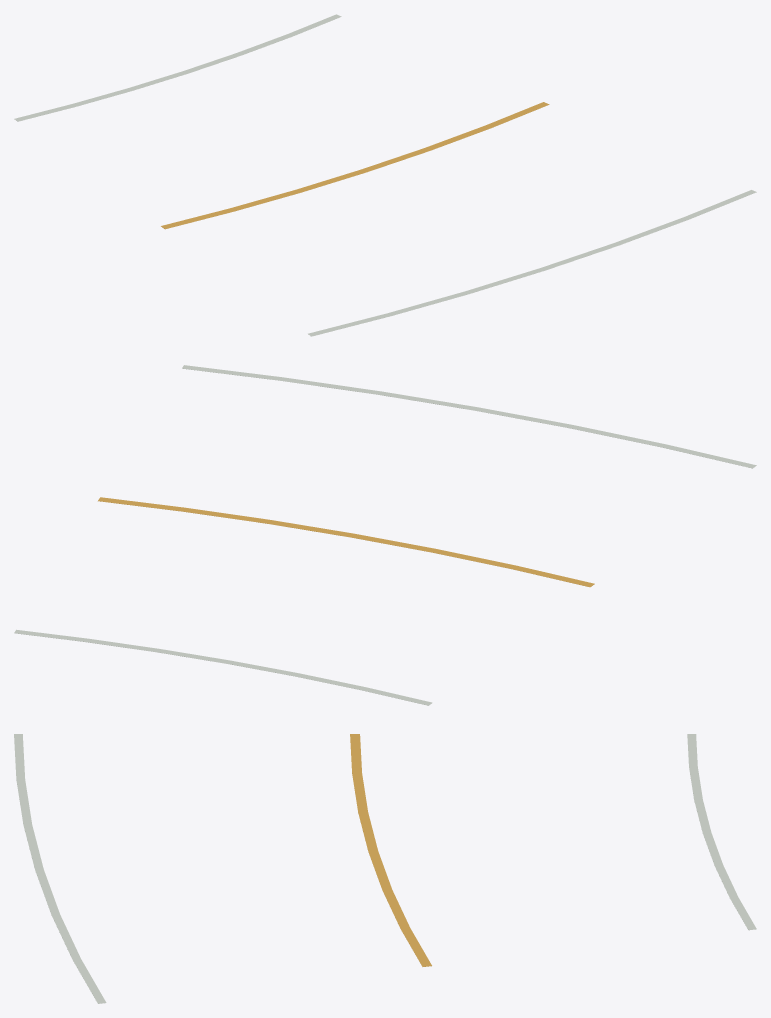
File: RoadPlan_CurveMarking_2L_A15_R18.glb
3 views of the same model, one above another, from view 1: azimuth 30°, elevation 25°; view 2: azimuth 150°, elevation 25°; view 3: azimuth 270°, elevation 25° (orthographic). The views are drawn at different scales.
Visible parts, largest first — view 1: RoadPlan_CurveMarking_2L_A15_R18_EdgeRight, RoadPlan_CurveMarking_2L_A15_R18_Center, RoadPlan_CurveMarking_2L_A15_R18_EdgeLeft; view 2: RoadPlan_CurveMarking_2L_A15_R18_EdgeRight, RoadPlan_CurveMarking_2L_A15_R18_Center, RoadPlan_CurveMarking_2L_A15_R18_EdgeLeft; view 3: RoadPlan_CurveMarking_2L_A15_R18_EdgeRight, RoadPlan_CurveMarking_2L_A15_R18_Center, RoadPlan_CurveMarking_2L_A15_R18_EdgeLeft.
Part boxes in pixels (x1=…): RoadPlan_CurveMarking_2L_A15_R18_EdgeRight: x1=308, y1=190, x2=756, y2=336; RoadPlan_CurveMarking_2L_A15_R18_Center: x1=161, y1=102, x2=549, y2=229; RoadPlan_CurveMarking_2L_A15_R18_EdgeLeft: x1=14, y1=14, x2=341, y2=121; RoadPlan_CurveMarking_2L_A15_R18_EdgeRight: x1=182, y1=365, x2=756, y2=468; RoadPlan_CurveMarking_2L_A15_R18_Center: x1=98, y1=497, x2=594, y2=587; RoadPlan_CurveMarking_2L_A15_R18_EdgeLeft: x1=14, y1=629, x2=432, y2=705; RoadPlan_CurveMarking_2L_A15_R18_EdgeRight: x1=14, y1=734, x2=106, y2=1003; RoadPlan_CurveMarking_2L_A15_R18_Center: x1=350, y1=734, x2=431, y2=966; RoadPlan_CurveMarking_2L_A15_R18_EdgeLeft: x1=687, y1=734, x2=756, y2=930.
Bounding box in the file's own units: 5.41 × 0.0007 × 6.29.
